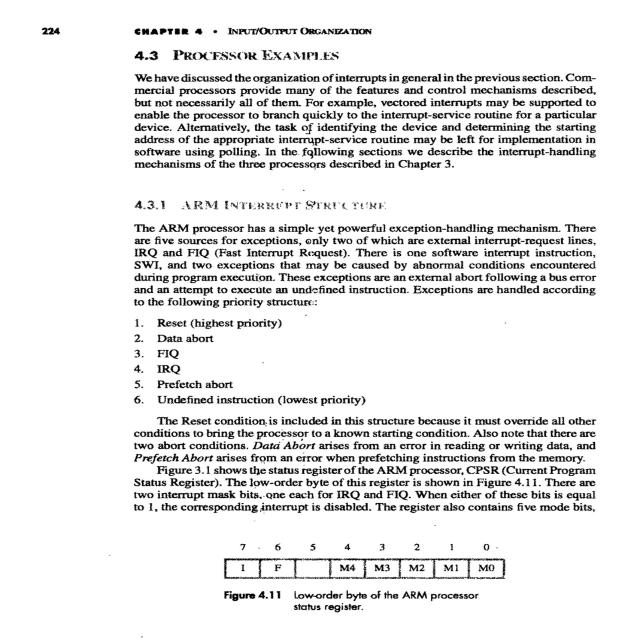diagram: (180, 535, 586, 617)
